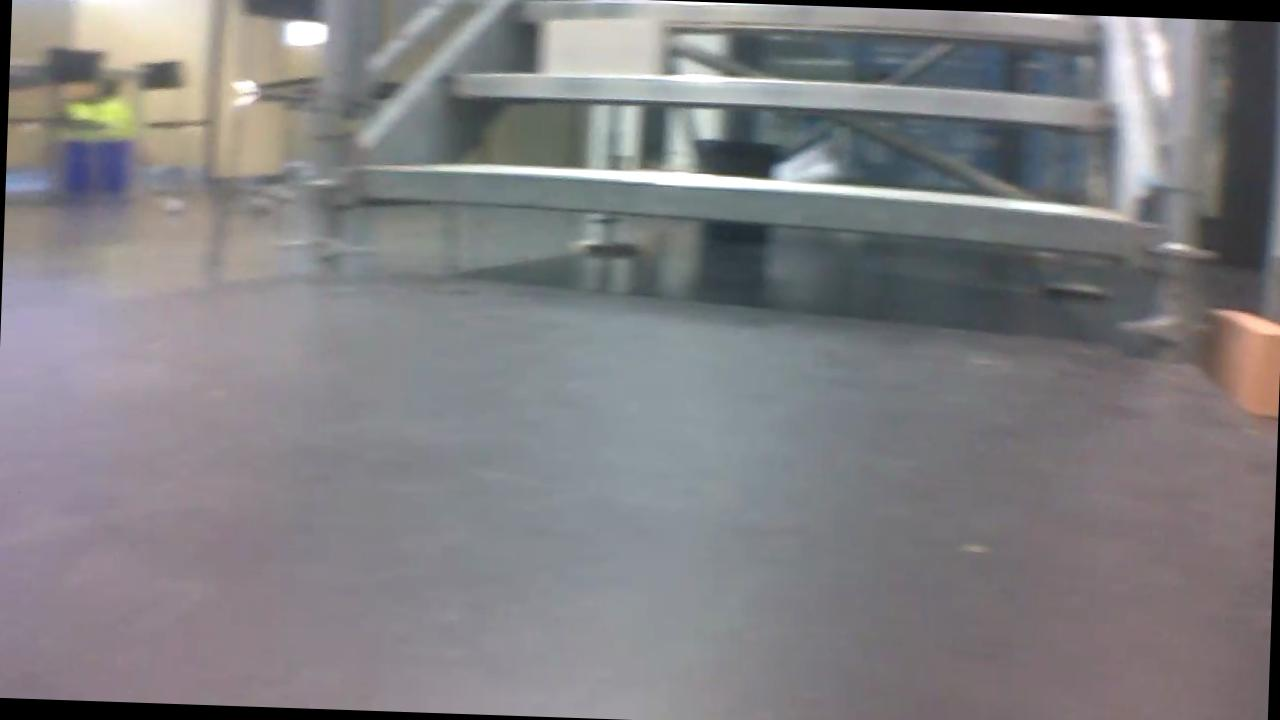brick: (540, 14, 661, 76)
edge: (361, 166, 1140, 253), (451, 70, 1110, 126)
